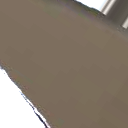crackTip: (1, 1, 126, 128)
